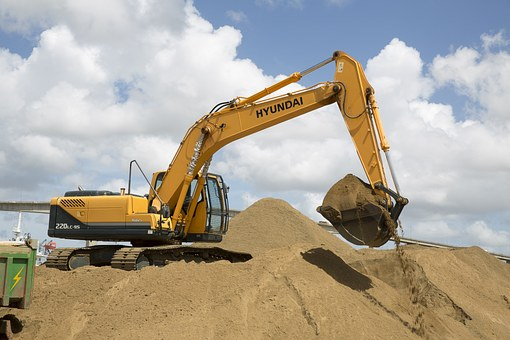excavator: (44, 49, 420, 273)
